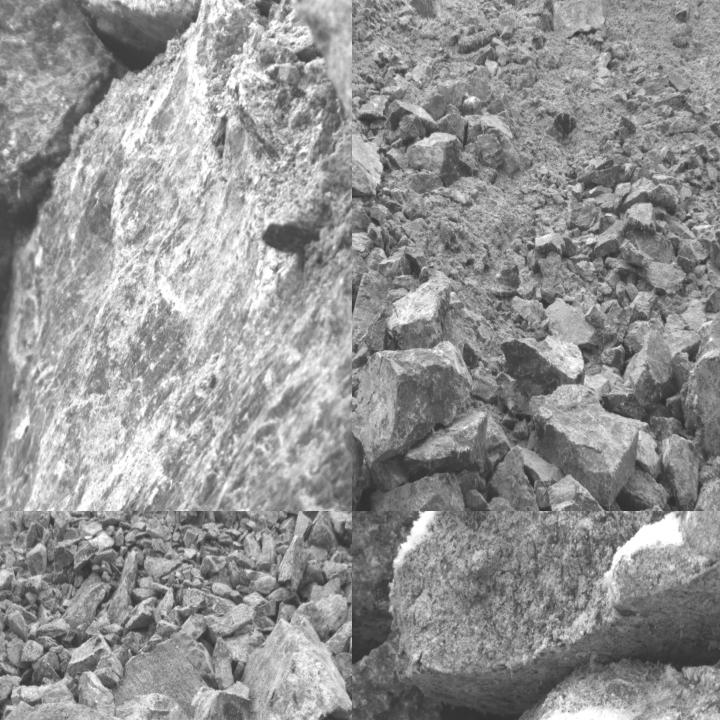stone: (0, 0, 351, 510), (0, 0, 128, 331), (469, 616, 719, 719), (354, 340, 473, 464), (527, 384, 639, 508), (245, 617, 349, 719), (352, 640, 459, 719), (403, 412, 488, 476), (388, 267, 451, 349), (503, 336, 585, 395), (632, 320, 679, 404), (369, 471, 470, 510), (352, 270, 396, 356), (405, 134, 480, 182), (545, 298, 608, 352), (488, 446, 540, 510), (660, 431, 699, 510), (547, 474, 622, 510), (63, 570, 110, 627), (352, 120, 384, 202), (295, 592, 347, 638), (193, 682, 253, 719), (617, 470, 670, 510), (388, 100, 442, 138), (646, 253, 695, 294), (204, 603, 256, 640), (276, 535, 309, 591), (66, 634, 111, 675), (78, 670, 115, 716), (352, 232, 374, 304), (636, 421, 663, 475), (629, 229, 674, 261), (72, 534, 115, 567), (305, 511, 338, 552), (594, 219, 627, 258), (324, 618, 351, 662), (437, 110, 468, 148), (577, 164, 626, 188), (213, 638, 236, 689), (565, 192, 597, 228), (665, 329, 704, 355), (50, 540, 79, 574), (352, 251, 367, 316), (620, 239, 653, 267), (625, 202, 656, 231), (475, 134, 503, 166), (0, 673, 23, 710), (677, 239, 711, 264), (535, 232, 566, 257), (404, 245, 429, 275), (180, 613, 207, 639), (27, 542, 47, 576), (625, 320, 647, 350), (19, 639, 43, 662), (612, 182, 631, 211), (96, 511, 137, 524), (293, 513, 313, 539)
